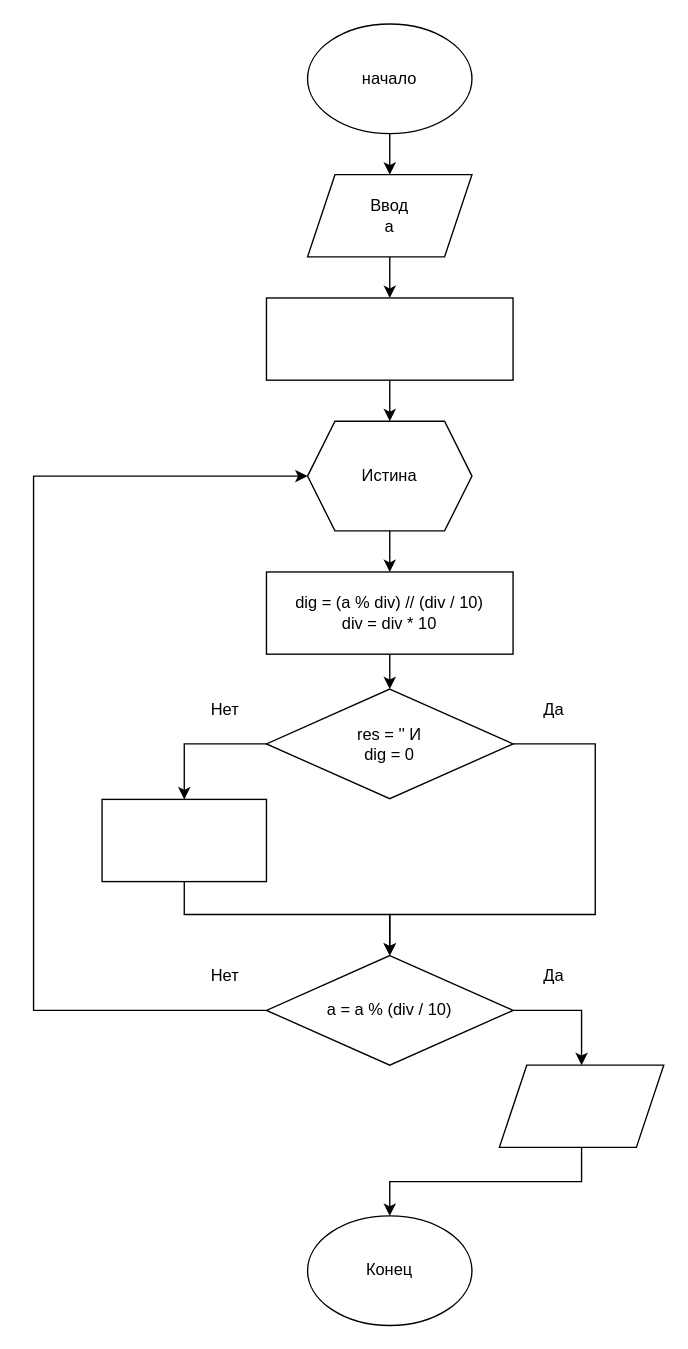
The diagram is 688 pixels wide and 1349 high, and some of its shapes have lost their labels. The shapes that lost their labels are listed below. From the top down, each one's centre as x and y in pixels, then its label:
At point (389, 338): "div = 10 res = ''".
At point (183, 840): "res = res + dig".
At point (581, 1105): "Вывод res".
